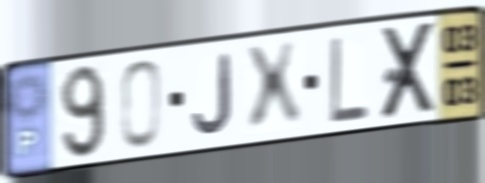0: (117, 55, 168, 154)
9: (56, 62, 110, 162)
J: (189, 51, 235, 138)
L: (328, 33, 371, 125)
X: (240, 38, 307, 139), (378, 17, 440, 124)
